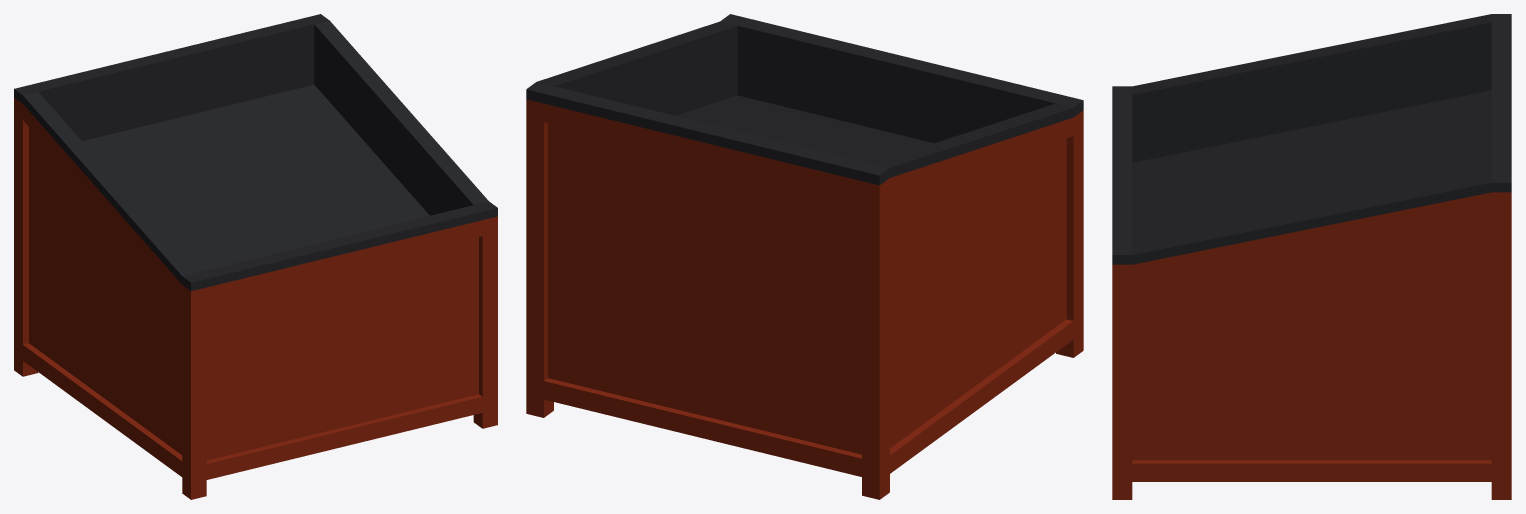
File: Fruit&VegetableShelf_1.fbx
3 views of the same model, side by side, from view 1: azimuth 30°, elevation 25°; view 2: azimuth 150°, elevation 25°; view 3: azimuth 270°, elevation 25° (orthographic). The views are drawn at different scales.
Parts seen in each view (by area): view 1: Shelves_Fruit&VegetableSelf; view 2: Shelves_Fruit&VegetableSelf; view 3: Shelves_Fruit&VegetableSelf.
Boxes of the visible parts, box(x1,y1,x2,y2) form: Shelves_Fruit&VegetableSelf: box(14, 14, 497, 499); Shelves_Fruit&VegetableSelf: box(526, 14, 1083, 499); Shelves_Fruit&VegetableSelf: box(1112, 14, 1511, 499).
Bounding box in the file's own units: 100 × 87.67 × 100.
